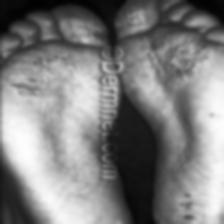Non-Cancerous Skin Condition: (2, 23, 78, 104), (152, 24, 216, 78), (167, 176, 219, 224), (171, 97, 224, 139)
